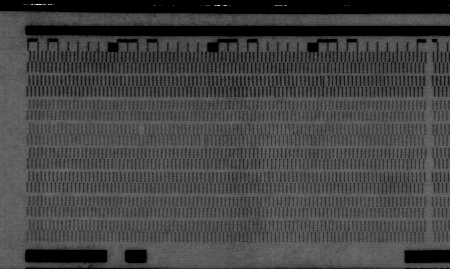Broken hole: (136, 123, 146, 136)
Oblique printing: (319, 74, 332, 88), (198, 135, 209, 149)
